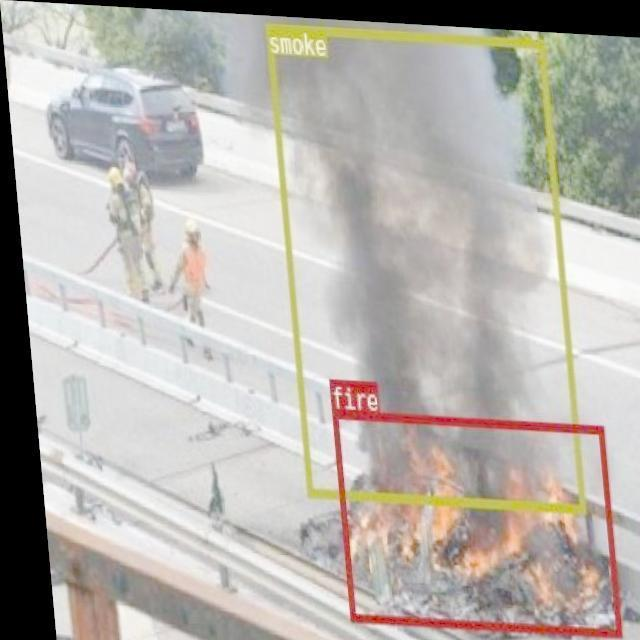Fire: (294, 420, 620, 630)
Smoke: (233, 11, 560, 541)
